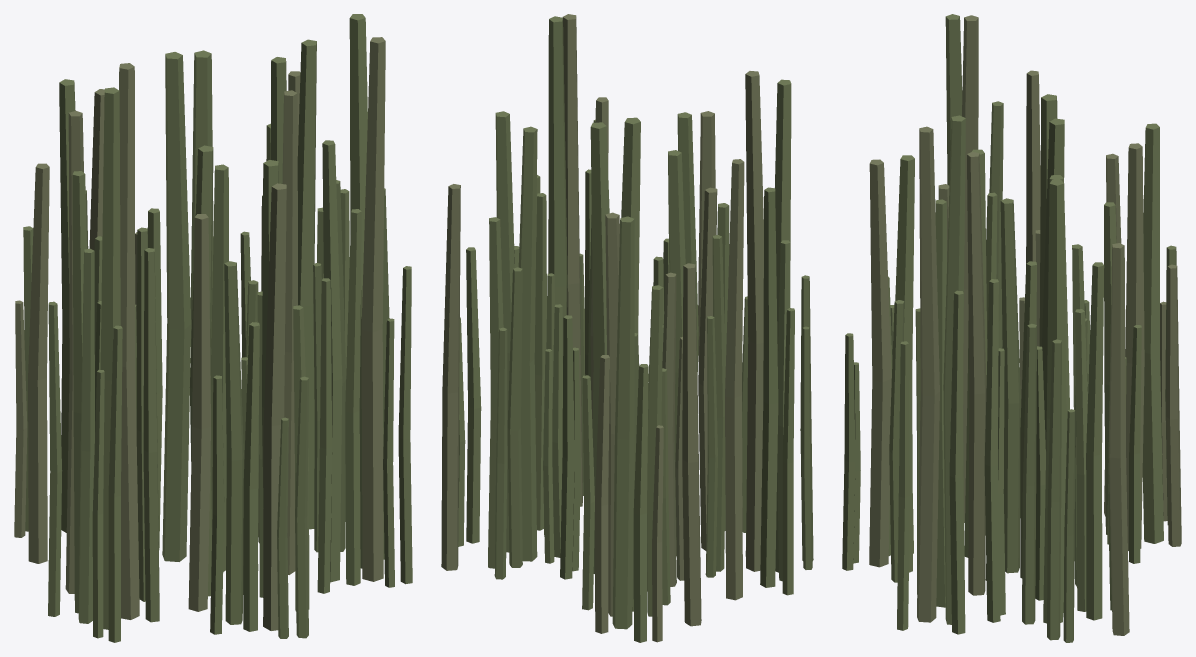
Rendered from grass_patch_2.fbx.
3 views of the same model, side by side, from view 1: azimuth 30°, elevation 25°; view 2: azimuth 150°, elevation 25°; view 3: azimuth 270°, elevation 25° (orthographic). The views are drawn at different scales.
Visible parts, largest first — view 1: grass_patch2; view 2: grass_patch2; view 3: grass_patch2.
Part boxes in pixels (left/top/right/bottom): grass_patch2: left=14, top=14, right=412, bottom=642; grass_patch2: left=441, top=14, right=813, bottom=642; grass_patch2: left=842, top=14, right=1181, bottom=642.
Size of the model in its own units: 0.5789 by 0.8956 by 0.5499.
